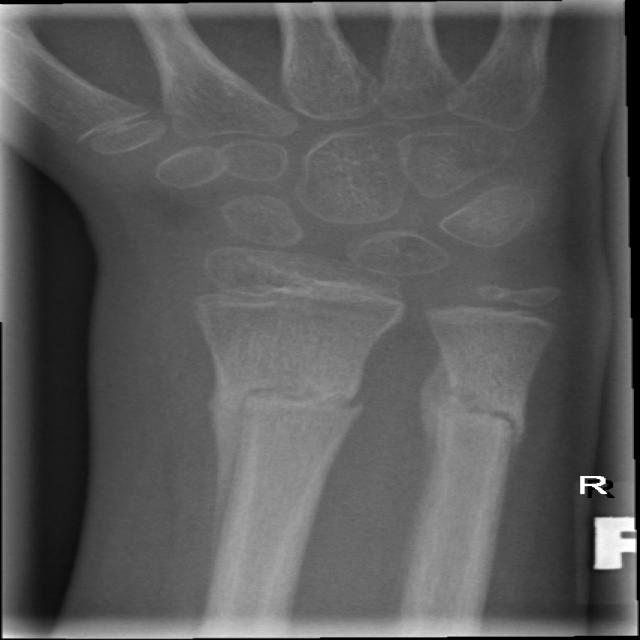radius fracture: (196, 350, 377, 518)
ulna fracture: (405, 364, 561, 480)
